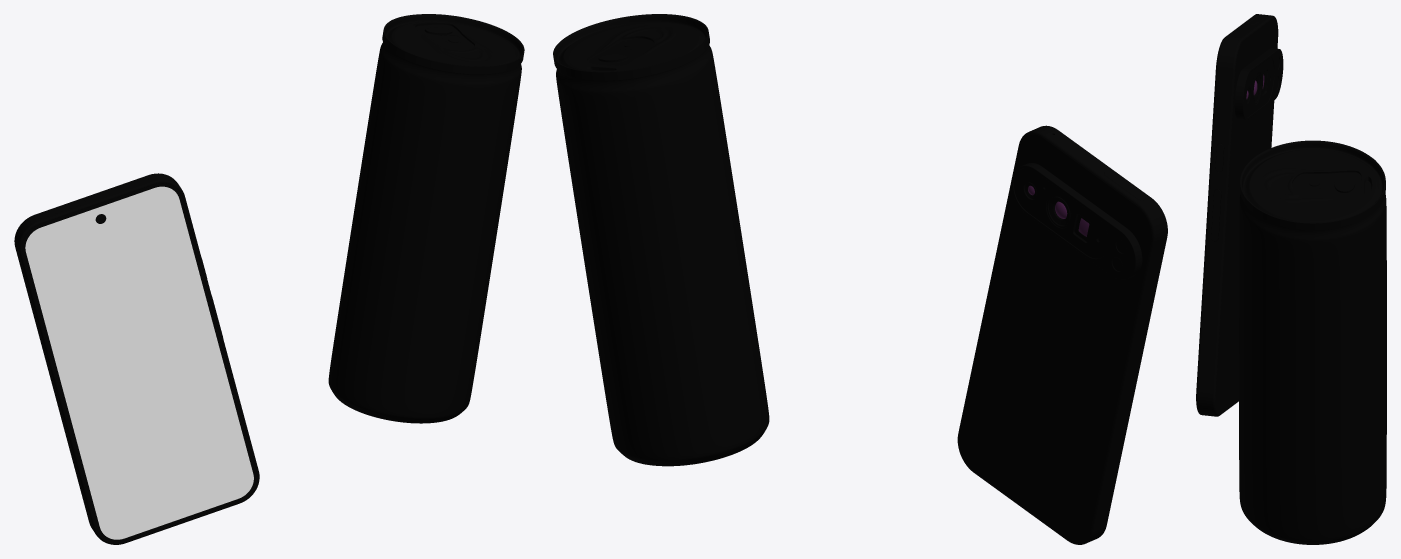
Rendered from surfthespike-phone.glb.
3 renders of one model, left to right at view 1: azimuth 30°, elevation 25°; view 2: azimuth 150°, elevation 25°; view 3: azimuth 270°, elevation 25°, orthographic. The views are drawn at different scales.
Visible parts, largest first — view 1: Google Pixel 9 Pro XL.003, Can, Popper; view 2: Can, Google Pixel 9 Pro XL.003, Popper; view 3: Can, Google Pixel 9 Pro XL.003, Popper.
Boxes of the visible parts, left/top/right/bottom form: Google Pixel 9 Pro XL.003: left=14, top=173, right=259, bottom=544; Can: left=328, top=14, right=524, bottom=423; Popper: left=415, top=23, right=474, bottom=50; Can: left=553, top=14, right=769, bottom=466; Google Pixel 9 Pro XL.003: left=957, top=125, right=1167, bottom=544; Popper: left=587, top=36, right=654, bottom=65; Can: left=1239, top=140, right=1386, bottom=544; Google Pixel 9 Pro XL.003: left=1196, top=14, right=1283, bottom=416; Popper: left=1292, top=170, right=1361, bottom=197.
Bounding box in the file's own units: 0.2977 × 0.2161 × 0.0922.
19 materials, 17 textured.
